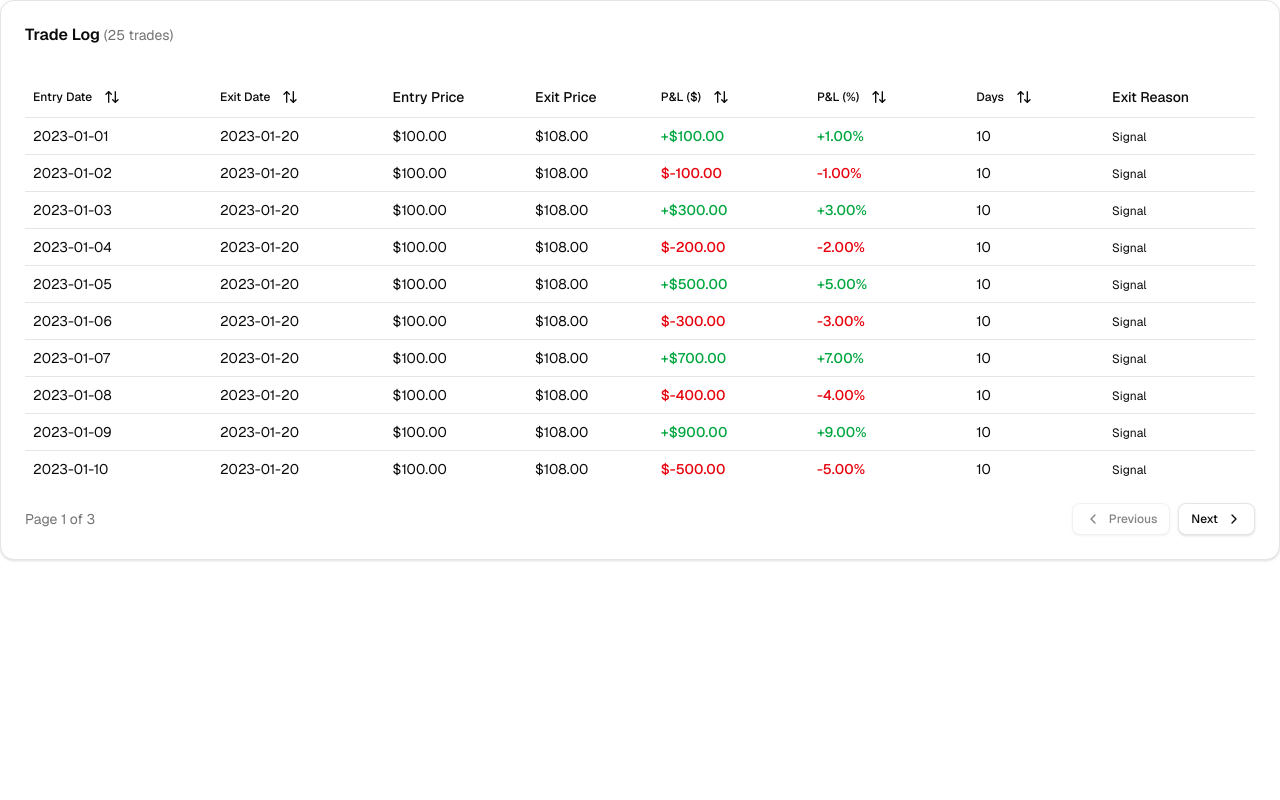
Test case: TradeLogTable › navigates to next page
Click the button with test id "trade-log-next" at x=1217, y=518, box x1=1178 y1=502 x2=1255 y2=534
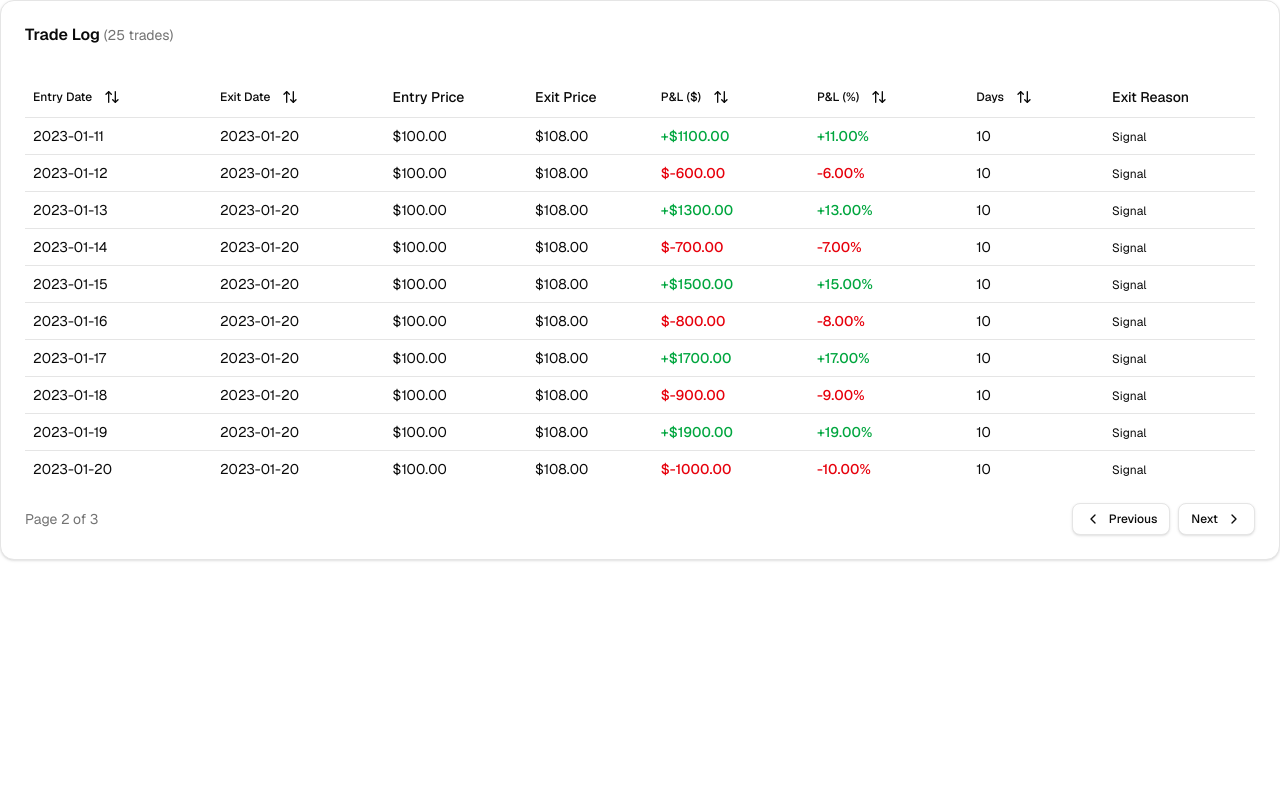
Result: the text "Page 2 of 3" is shown at x1=25 y1=508 x2=98 y2=528
